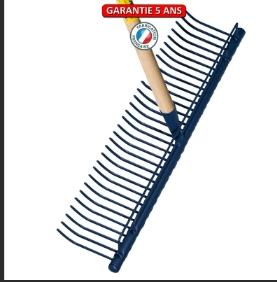RATEAU: (15, 0, 277, 282)
